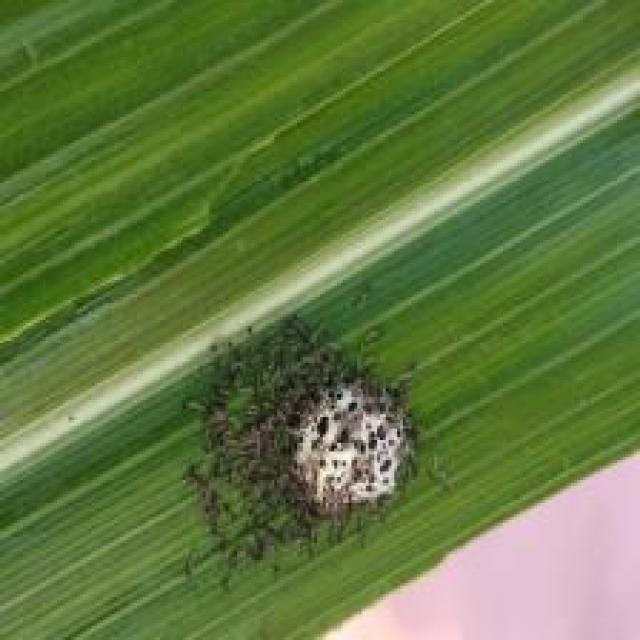Plaga: (168, 274, 451, 608)
